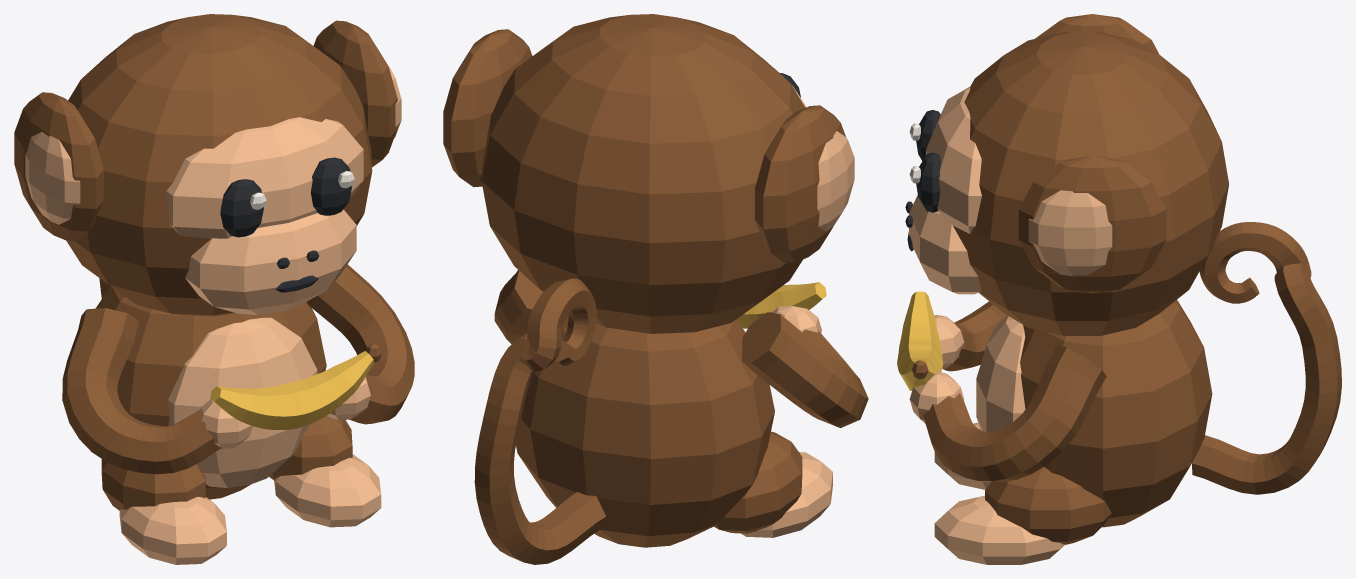
File: chunky-monkey-pet.glb
3 views of the same model, side by side, from view 1: azimuth 30°, elevation 25°; view 2: azimuth 150°, elevation 25°; view 3: azimuth 270°, elevation 25° (orthographic). The views are drawn at different scales.
Parts seen in each view (by area): view 1: Monkey_Pet; view 2: Monkey_Pet; view 3: Monkey_Pet.
Boxes of the visible parts, x1,y1,x2,y2 form: Monkey_Pet: [14, 14, 414, 564]; Monkey_Pet: [443, 14, 868, 564]; Monkey_Pet: [897, 14, 1341, 564].
Size of the model in its own units: 1.91 by 2.44 by 2.12.
